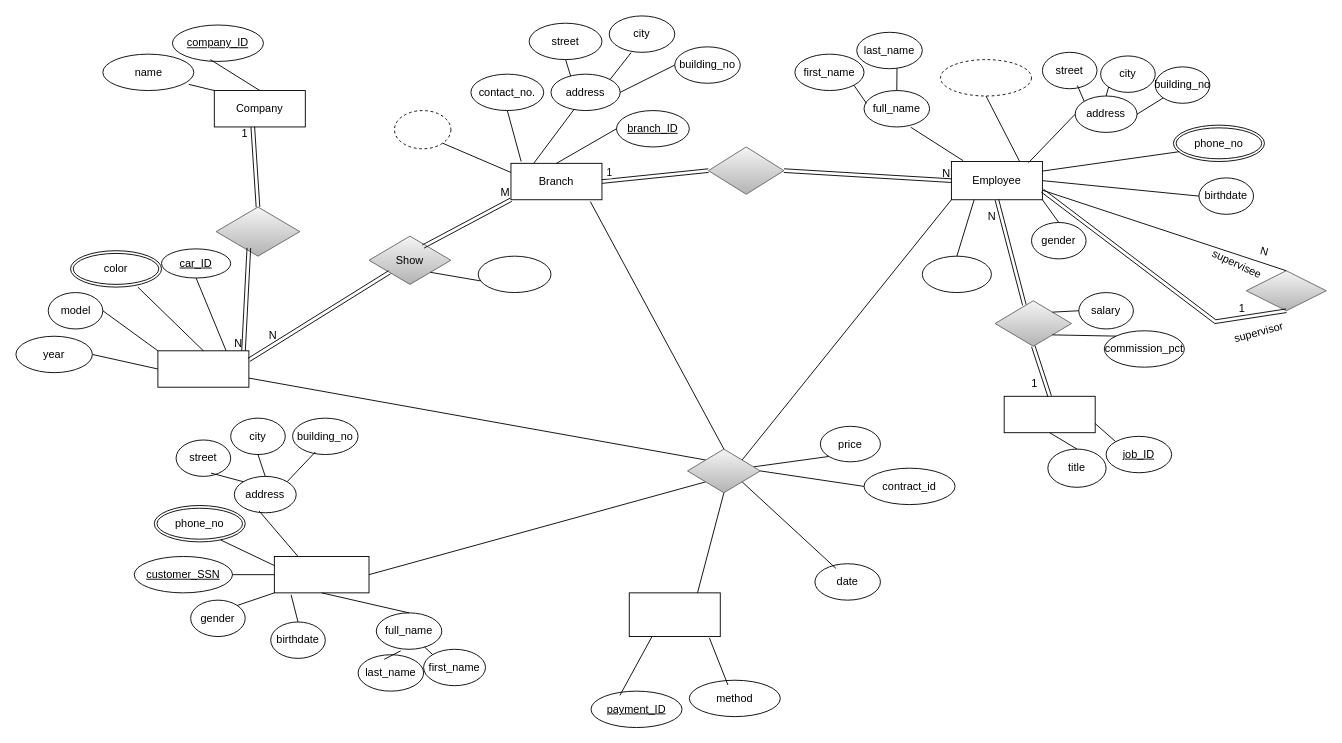
This 1342x743 diagram has some shape labels left out. Here are the shapes that lost their labels. From the top down, the centre of each, then its label:
At point (985, 77): "NET_salary".
At point (422, 129): "total_cars".
At point (746, 170): "works_in".
At point (257, 231): "manufacture".
At point (514, 274): "no_of_cars".
At point (956, 274): "emp_SSN".
At point (1285, 290): "supervision".
At point (1033, 323): "has".
At point (203, 368): "Car".
At point (1049, 414): "Job_title".
At point (723, 470): "contract".
At point (321, 574): "Customer".
At point (674, 614): "Payment_method".
